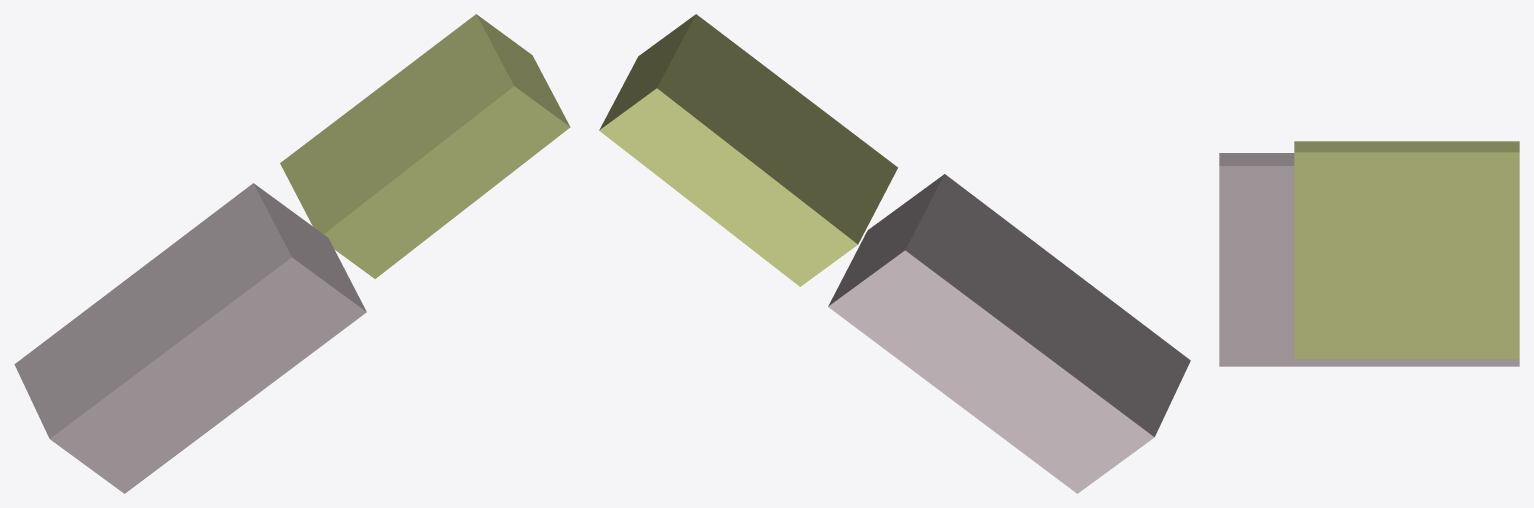
The picture shows the model from 3 angles, left to right: view 1: azimuth 30°, elevation 25°; view 2: azimuth 150°, elevation 25°; view 3: azimuth 270°, elevation 25°; orthographic projection. The views are drawn at different scales.
Parts seen in each view (by area): view 1: 0_0_1_2_0_0_0_2_3; view 2: 0_0_1_2_0_0_0_2_3; view 3: 0_0_1_2_0_0_0_2_3.
Boxes of the visible parts, box(x1,y1,x2,y2) form: 0_0_1_2_0_0_0_2_3: box(14, 14, 570, 493); 0_0_1_2_0_0_0_2_3: box(599, 14, 1190, 493); 0_0_1_2_0_0_0_2_3: box(1219, 141, 1519, 366).
Bounding box in the file's own units: 46.16 × 28.32 × 12.
